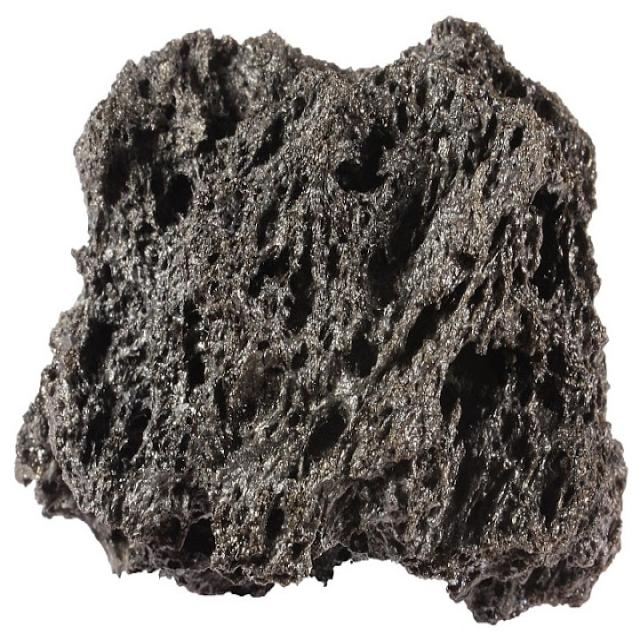Igneous: (26, 18, 628, 627)
